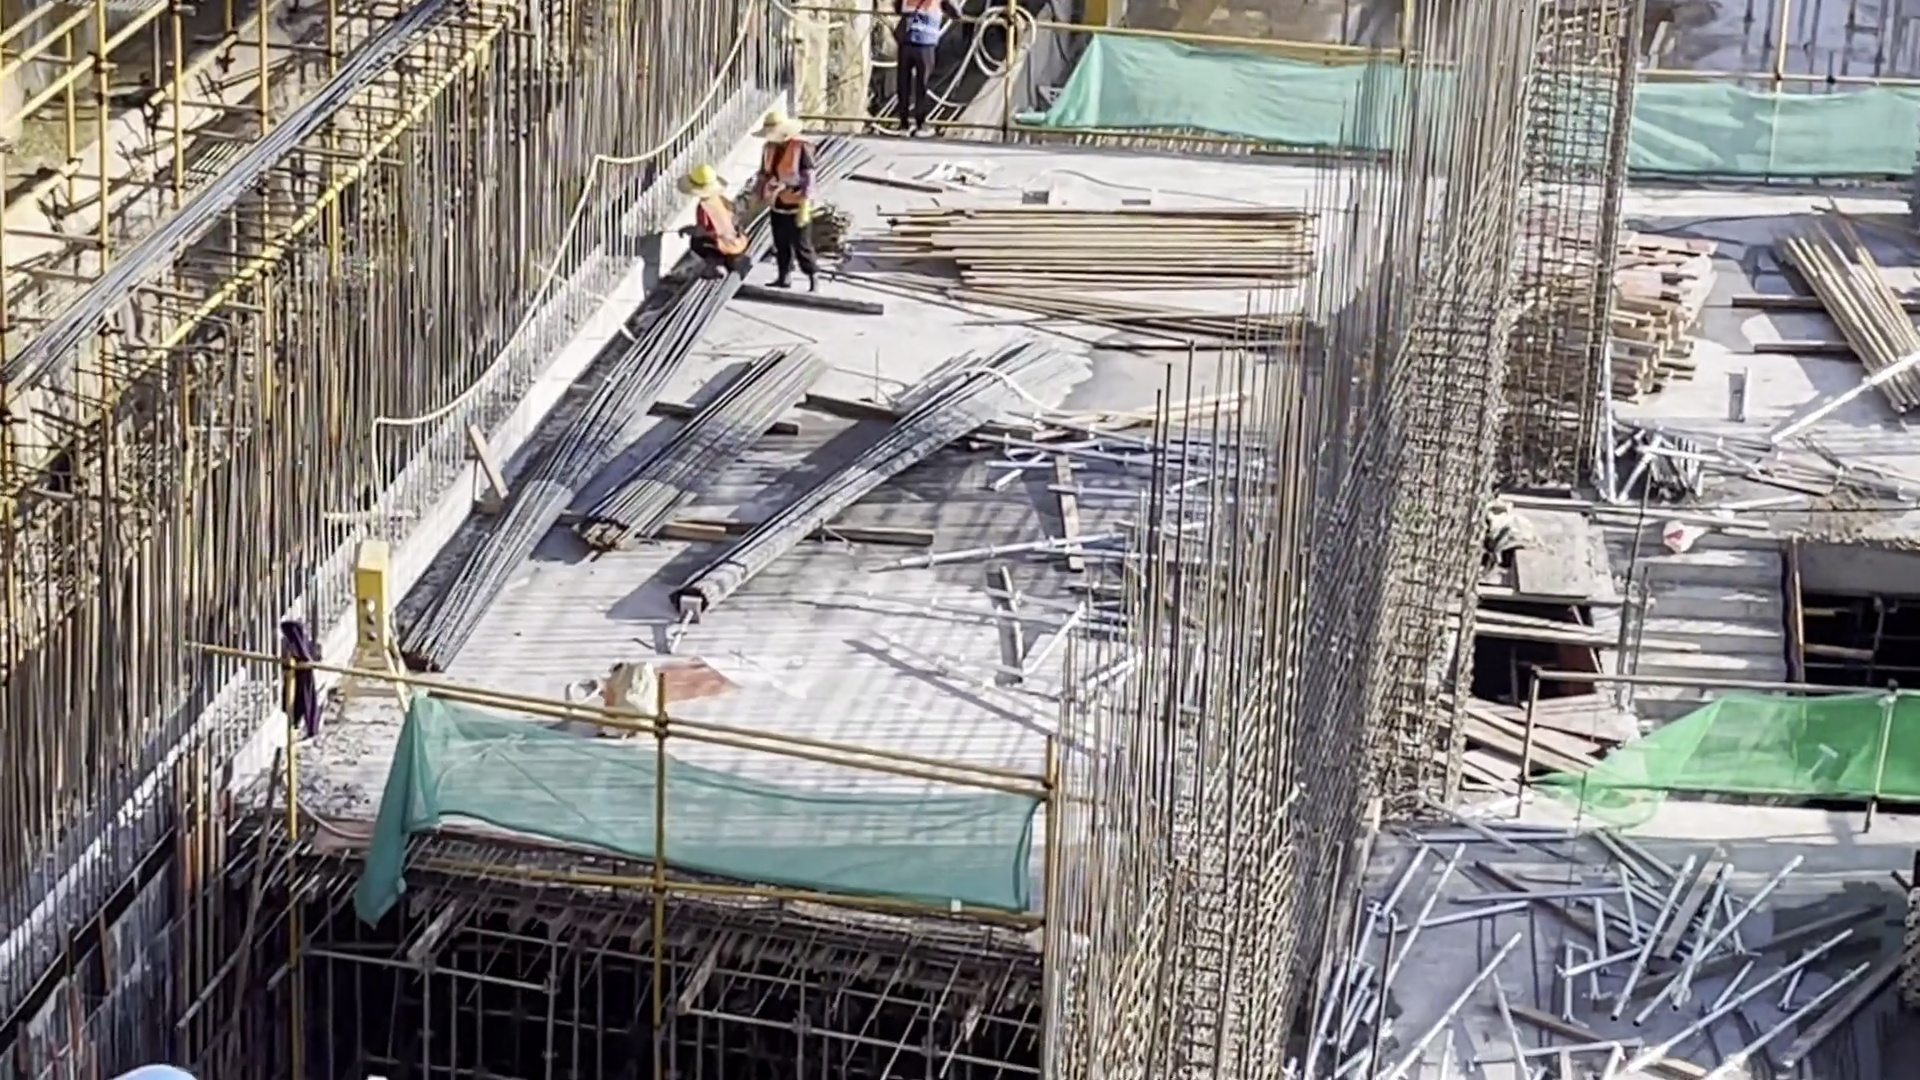ebox: (347, 554, 404, 700)
helmet: (759, 115, 805, 142), (685, 165, 721, 188)
person: (741, 106, 820, 294), (660, 165, 758, 286), (874, 1, 947, 148)
rebar: (418, 300, 695, 665), (676, 366, 1003, 634), (620, 367, 800, 503)
vest: (684, 203, 747, 253), (761, 152, 807, 208), (903, 8, 953, 49)
wood: (1521, 303, 1687, 408)
